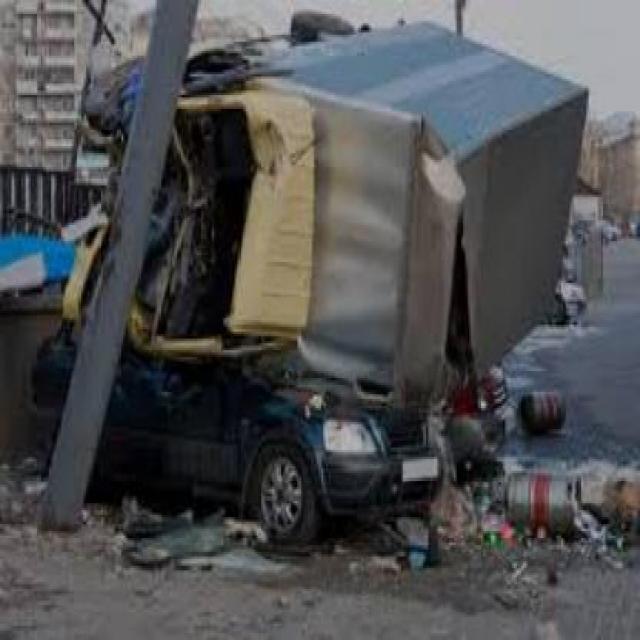accident: (18, 14, 596, 559)
